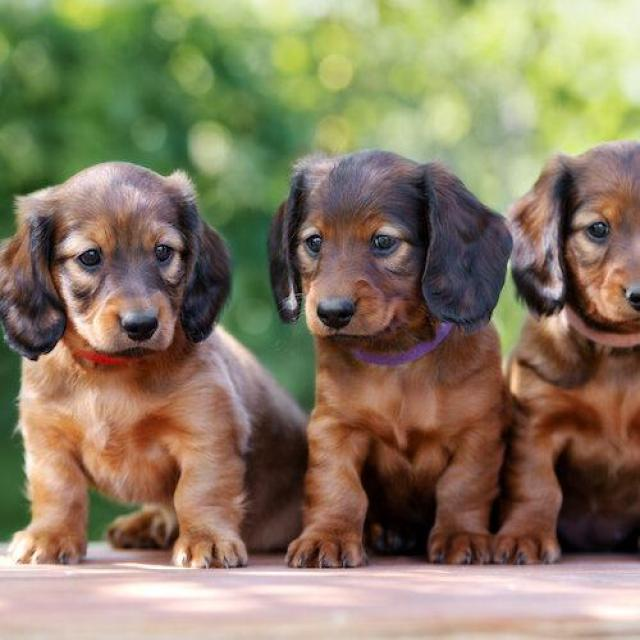dog: (0, 164, 640, 579)
